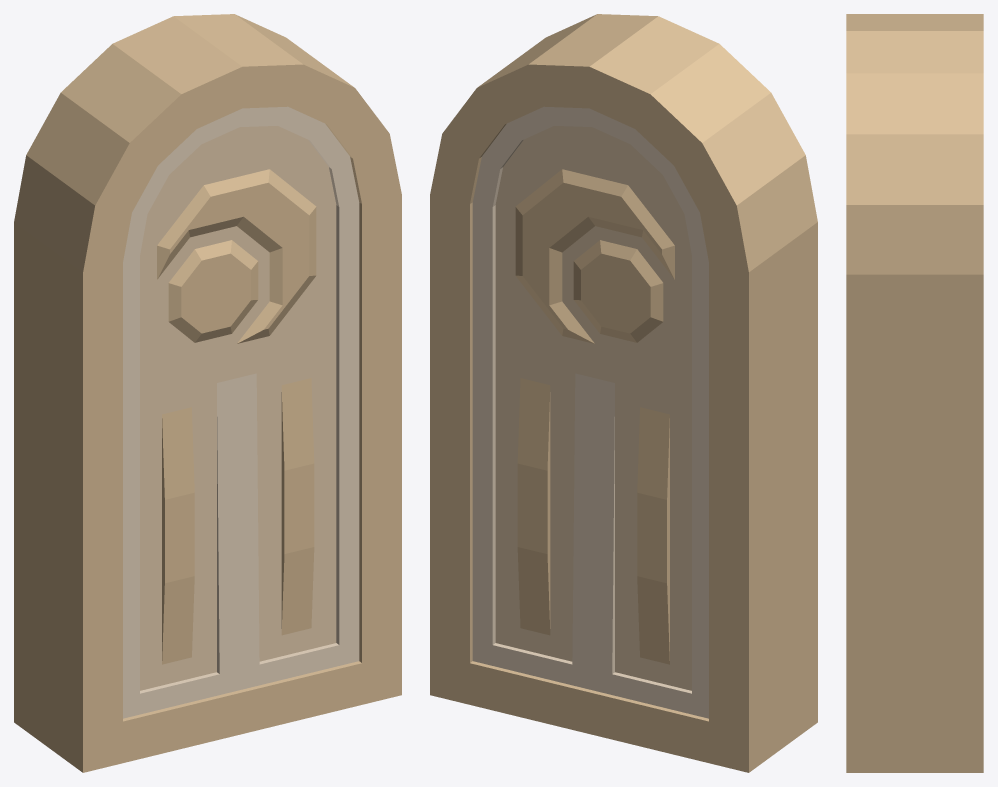
The model's file is temple_Wall_Straight_Door_Eclipse.glb.
3 renders of one model, left to right at view 1: azimuth 30°, elevation 25°; view 2: azimuth 150°, elevation 25°; view 3: azimuth 270°, elevation 25°, orthographic.
Visible parts, largest first — view 1: object1; view 2: object1; view 3: object1.
Part boxes in pixels (x1=…): object1: x1=14, y1=14, x2=401, y2=772; object1: x1=430, y1=14, x2=817, y2=772; object1: x1=846, y1=14, x2=983, y2=772.
Size of the model in its own units: 0.8 by 1.6 by 0.3.
